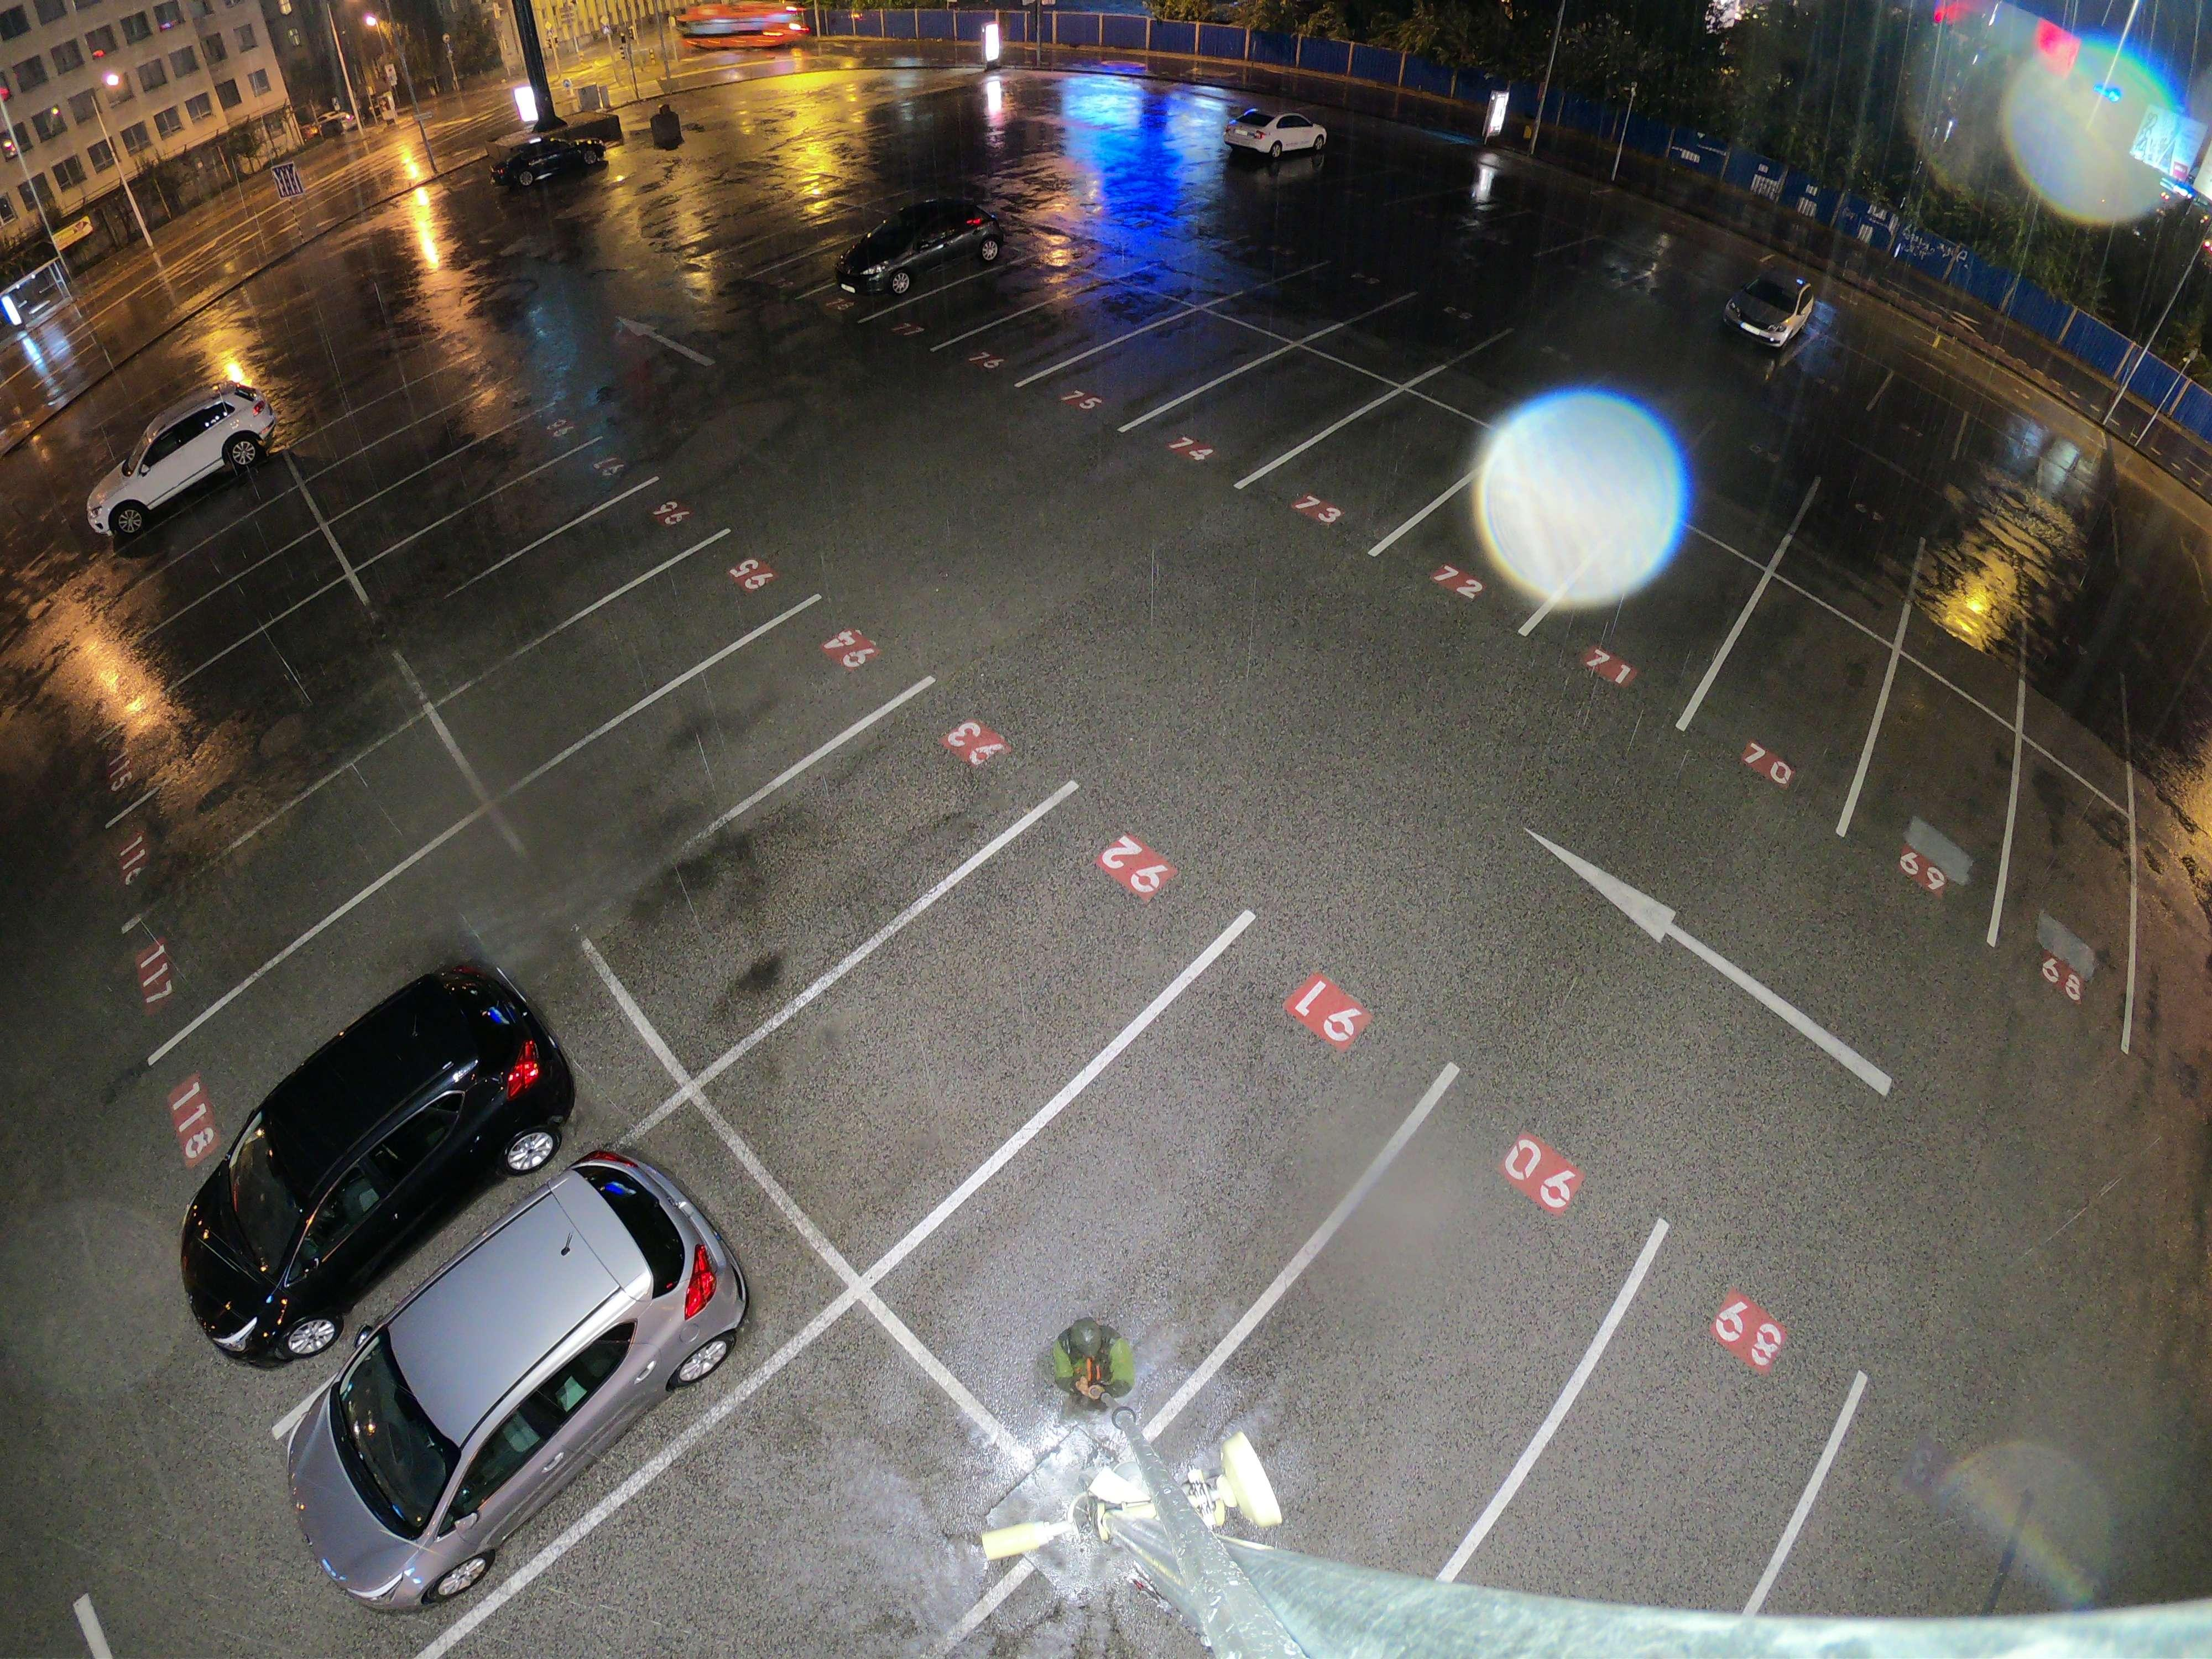empty: (732, 1375, 983, 1654), (1306, 1229, 1501, 1498), (1610, 1268, 1796, 1529), (1041, 1121, 1254, 1338), (845, 944, 1047, 1128), (709, 790, 914, 927), (1442, 466, 1560, 613), (606, 717, 747, 836), (236, 942, 366, 1065), (2020, 792, 2121, 951), (1898, 704, 1997, 862), (1749, 610, 1835, 774), (1619, 560, 1726, 685), (1334, 411, 1440, 531), (207, 828, 352, 908), (514, 639, 632, 728), (1223, 358, 1318, 459), (1108, 321, 1193, 416), (463, 554, 567, 630), (1015, 305, 1112, 374), (460, 483, 551, 542), (925, 273, 992, 330)
occupied: (182, 944, 561, 1345), (298, 1208, 724, 1521), (79, 394, 280, 545), (858, 195, 977, 280)
